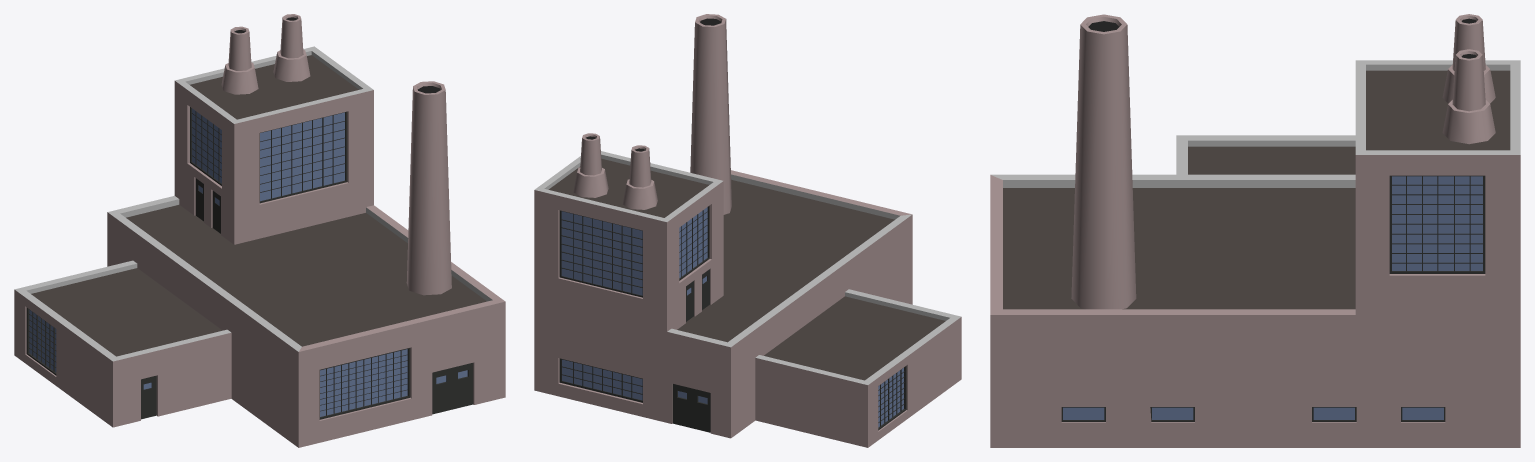
File: FactoryBuilding_07.fbx
3 renders of one model, left to right at view 1: azimuth 30°, elevation 25°; view 2: azimuth 150°, elevation 25°; view 3: azimuth 270°, elevation 25°, orthographic. The views are drawn at different scales.
Visible parts, largest first — view 1: FactoryBuilding_07; view 2: FactoryBuilding_07; view 3: FactoryBuilding_07.
Part boxes in pixels (bbox=[...]): FactoryBuilding_07: bbox=[14, 14, 505, 447]; FactoryBuilding_07: bbox=[534, 14, 961, 447]; FactoryBuilding_07: bbox=[990, 14, 1520, 447].
Bounding box in the file's own units: 32.81 × 27.73 × 33.36.
